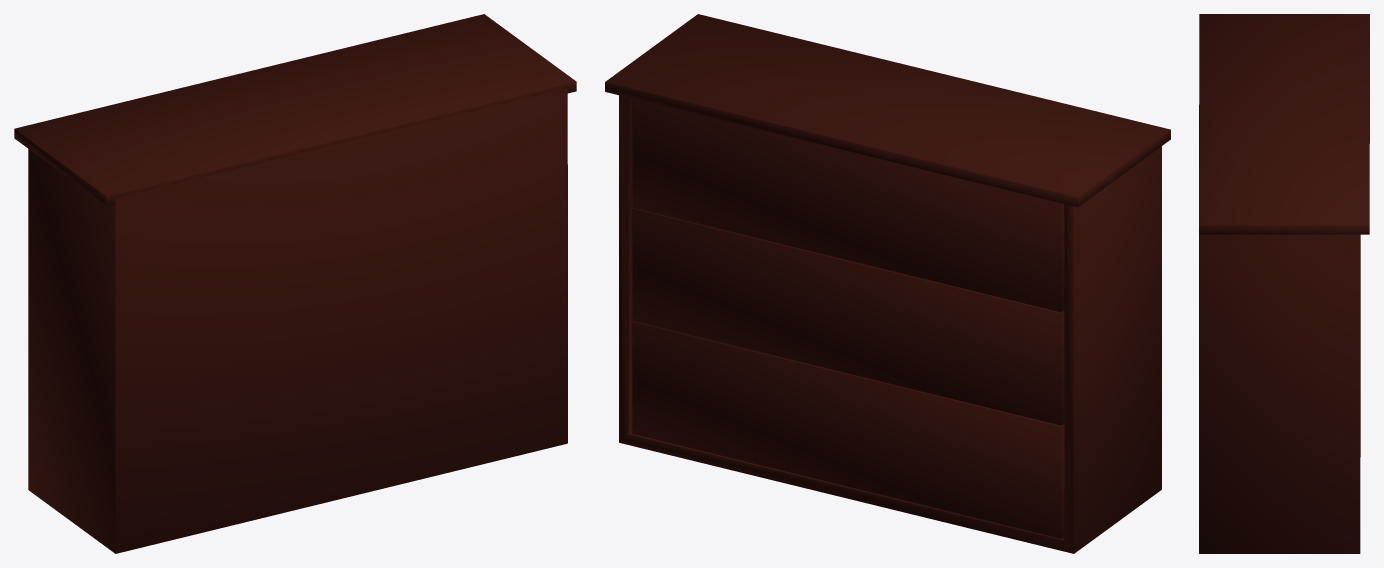
File: Armario_.fbx
The picture shows the model from 3 angles, left to right: view 1: azimuth 30°, elevation 25°; view 2: azimuth 150°, elevation 25°; view 3: azimuth 270°, elevation 25°; orthographic projection. The views are drawn at different scales.
Parts seen in each view (by area): view 1: Cube.001; view 2: Cube.001; view 3: Cube.001.
Part boxes in pixels (x1,y1,x2,y2): Cube.001: (14, 14, 576, 553); Cube.001: (605, 14, 1170, 553); Cube.001: (1199, 14, 1369, 553).
Size of the model in its own units: 496 by 363 by 169.
